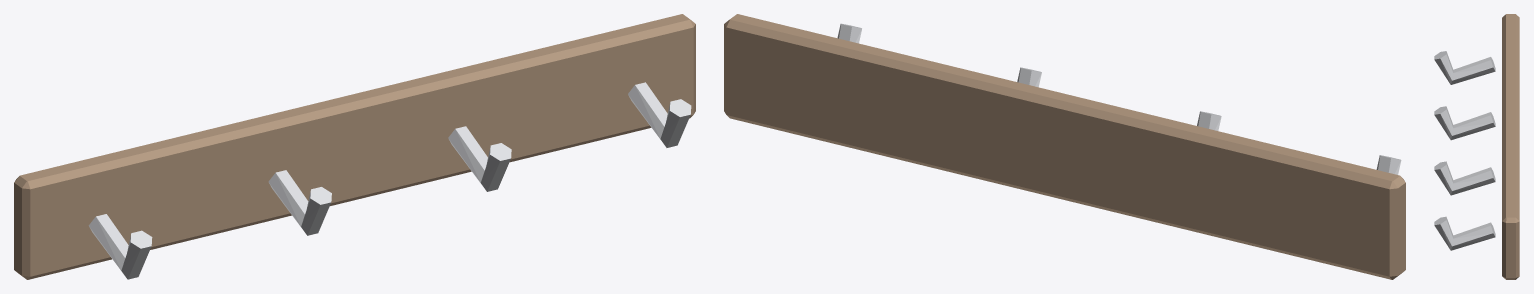
Rendered from hotel-and-resort-operations-coat-hook-rail-d7fea5a5__25781.glb.
3 views of the same model, side by side, from view 1: azimuth 30°, elevation 25°; view 2: azimuth 150°, elevation 25°; view 3: azimuth 270°, elevation 25° (orthographic). The views are drawn at different scales.
Parts seen in each view (by area): view 1: coat-hook-rail; view 2: coat-hook-rail; view 3: coat-hook-rail.
Boxes of the visible parts, x1,y1,x2,y2 form: coat-hook-rail: (14, 14, 695, 279); coat-hook-rail: (724, 14, 1405, 279); coat-hook-rail: (1434, 14, 1519, 279).
Bounding box in the file's own units: 0.5 × 0.07 × 0.0872.
